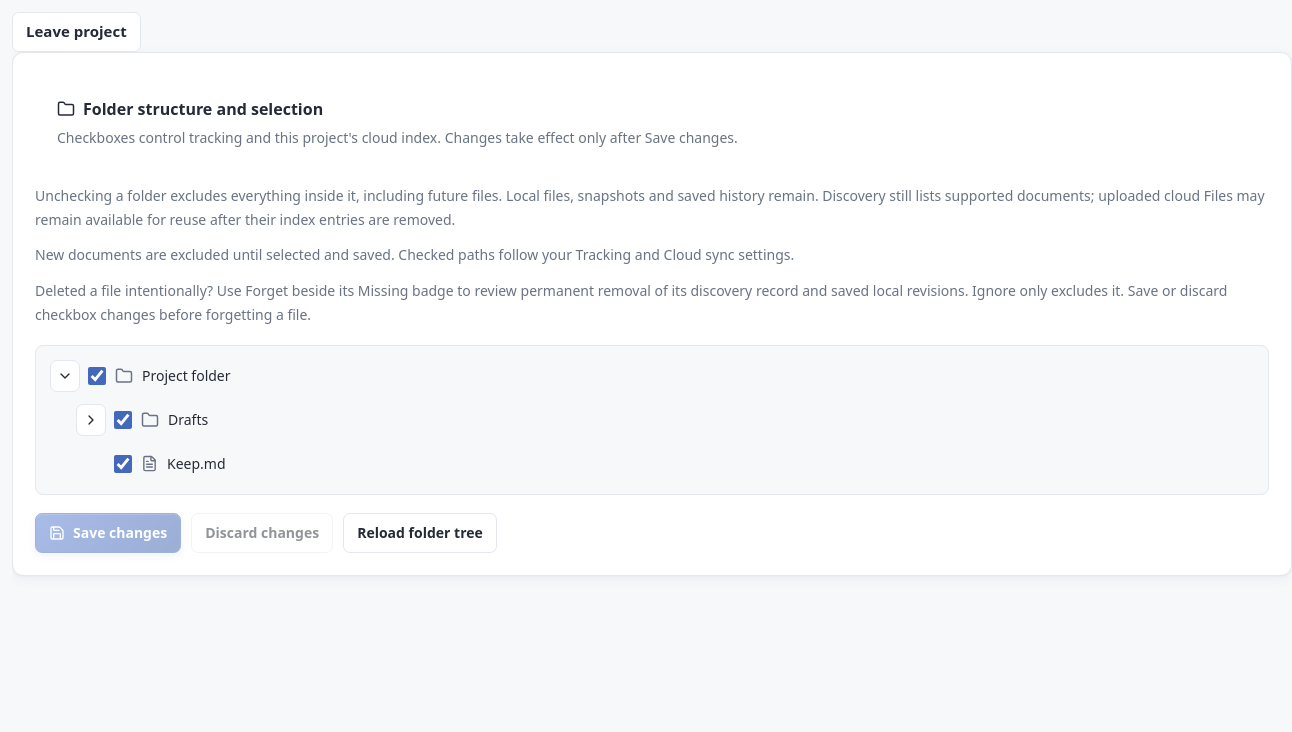
refuses a stale draft without overwriting saved rules
Click the checkbox named "Include Drafts".
click(123, 420)  # box [114,411,132,429]
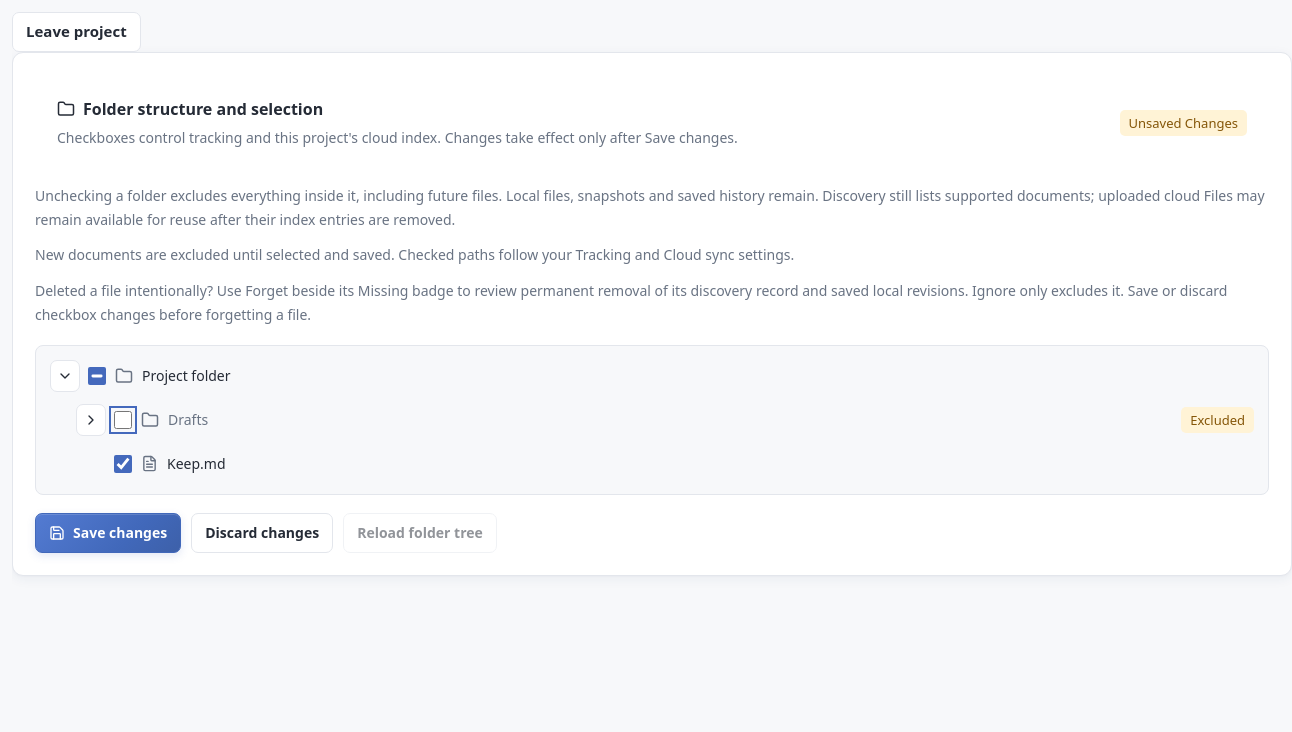
Click the button "Save changes".
click(108, 533)  # box [35,513,181,553]
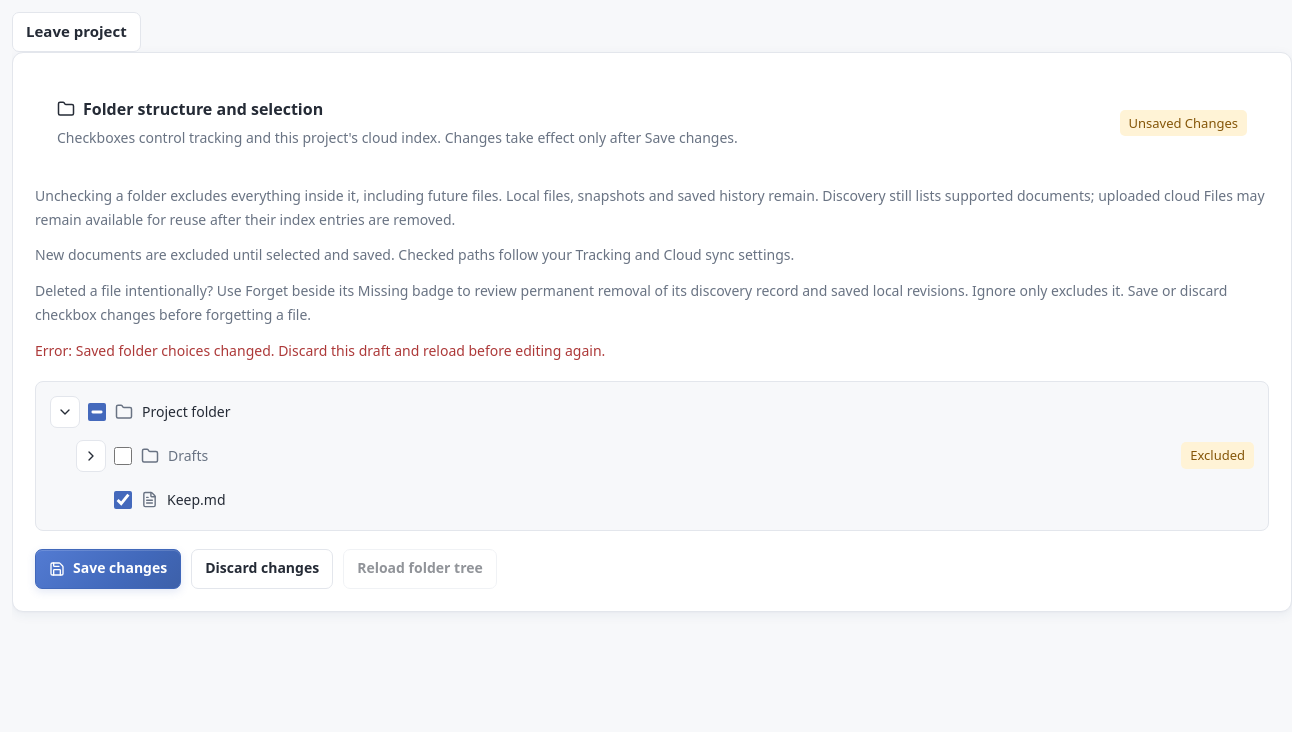
Expected: the text "Unsaved changes" is shown, [1120,110,1247,136]
Expected: the message shows "Saved folder choices changed", [35,341,605,360]
